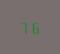seven: (19, 19, 28, 33)
six: (29, 19, 38, 34)
